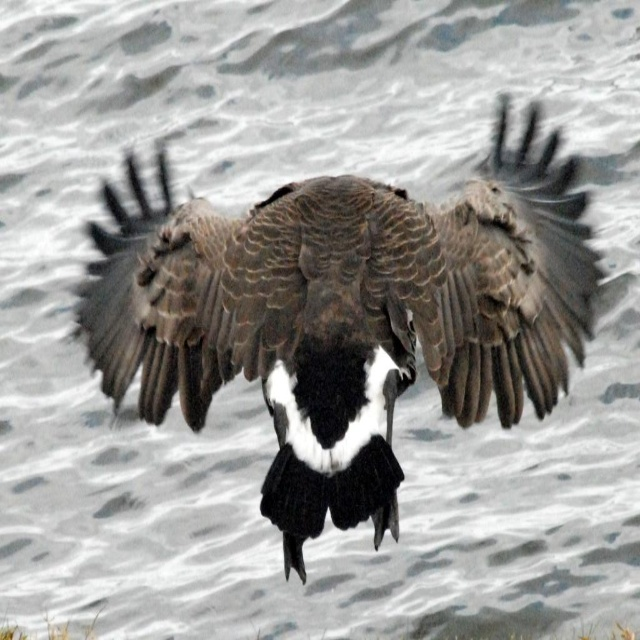Eagle: (68, 89, 612, 584)
